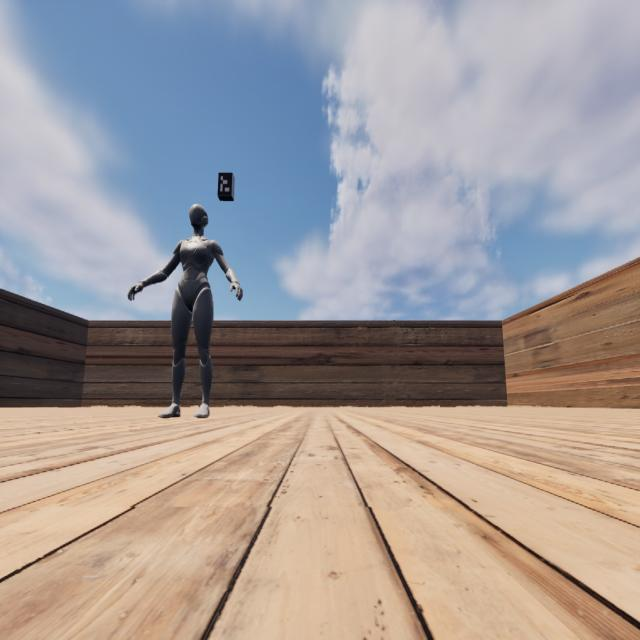aruco: (217, 172, 233, 196)
hip: (173, 288, 213, 298)
